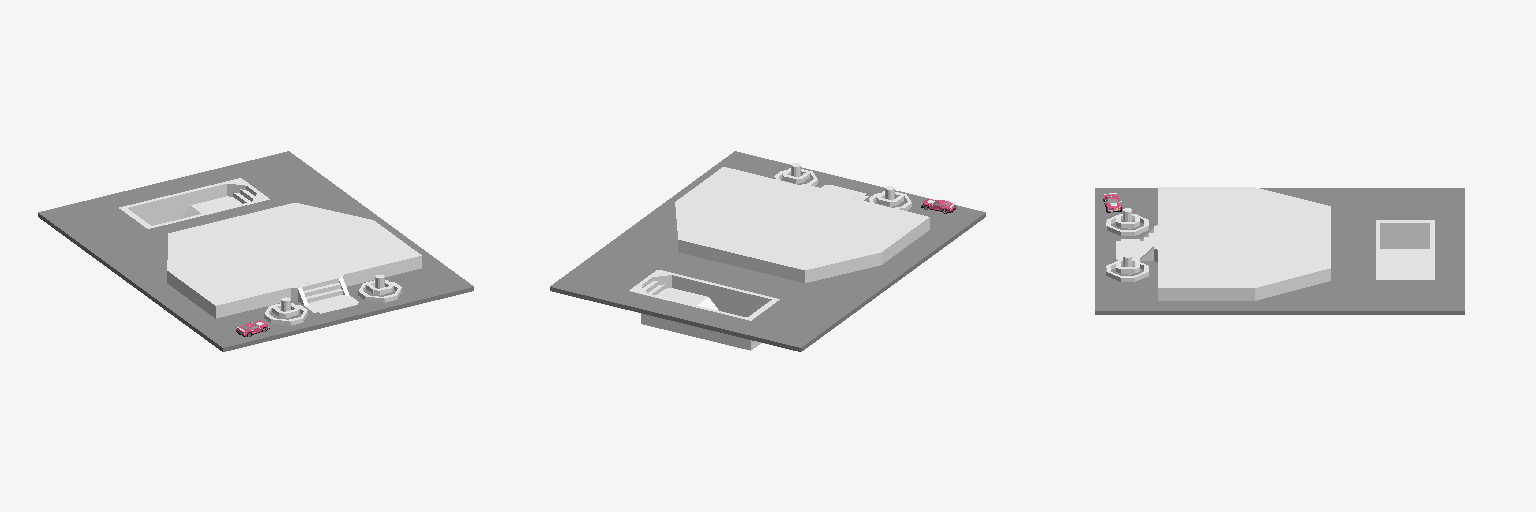
The model's file is model-triangulated.obj.
3 renders of one model, left to right at view 1: azimuth 30°, elevation 25°; view 2: azimuth 150°, elevation 25°; view 3: azimuth 270°, elevation 25°, orthographic.
Visible parts, largest first — view 1: group[number redacted], group[number redacted], group[number redacted], group[number redacted], group[number redacted], group[number redacted]; view 2: group[number redacted], group[number redacted], group[number redacted], group[number redacted], group[number redacted], group[number redacted], group[number redacted]; view 3: group[number redacted], group[number redacted], group[number redacted], group[number redacted], group[number redacted], group[number redacted], group[number redacted].
Part boxes in pixels (x1,y1,x2,y2): group[number redacted]: (167,203,421,318); group[number redacted]: (82,184,473,351); group[number redacted]: (38,151,303,227); group[number redacted]: (53,208,146,248); group[number redacted]: (125,181,230,225); group[number redacted]: (242,162,332,198); group[number redacted]: (675,167,929,282); group[number redacted]: (595,151,985,318); group[number redacted]: (550,276,815,351); group[number redacted]: (752,299,845,340); group[number redacted]: (664,271,772,316); group[number redacted]: (565,254,657,290); group[number redacted]: (641,292,746,348); group[number redacted]: (1158,187,1330,300); group[number redacted]: (1095,188,1375,314); group[number redacted]: (1435,188,1464,314); group[number redacted]: (1376,280,1434,314); group[number redacted]: (1376,188,1434,219); group[number redacted]: (1376,220,1434,248); group[number redacted]: (1380,249,1429,266).
Size of the model in its own units: 1.23 by 0.22 by 1.57.